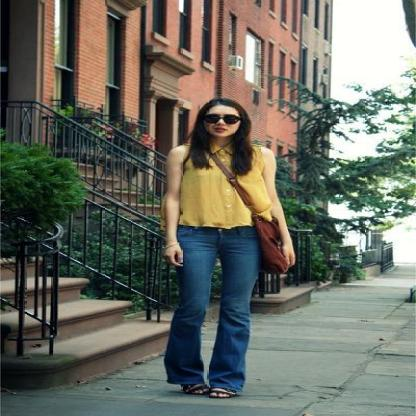pants: (162, 221, 258, 397)
shirt: (167, 142, 276, 228)
shoe: (171, 374, 236, 398)
sunglass: (212, 103, 251, 124)
